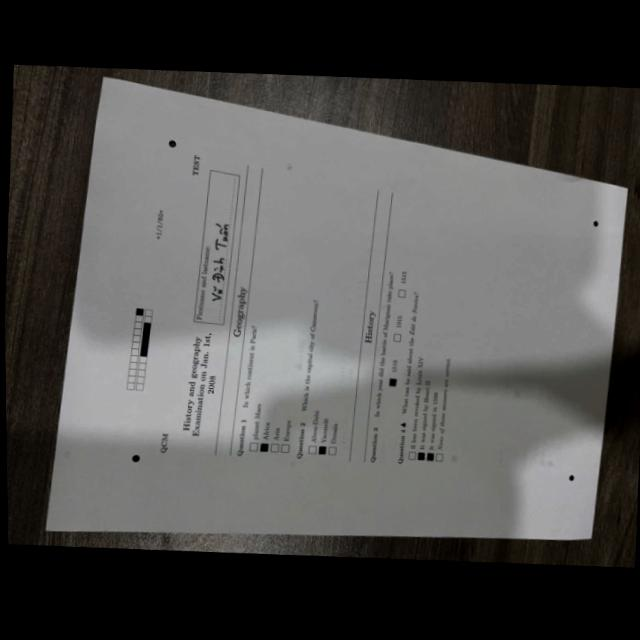Markers: (168, 139, 176, 148), (131, 454, 139, 462), (569, 473, 575, 480), (592, 220, 598, 226)
